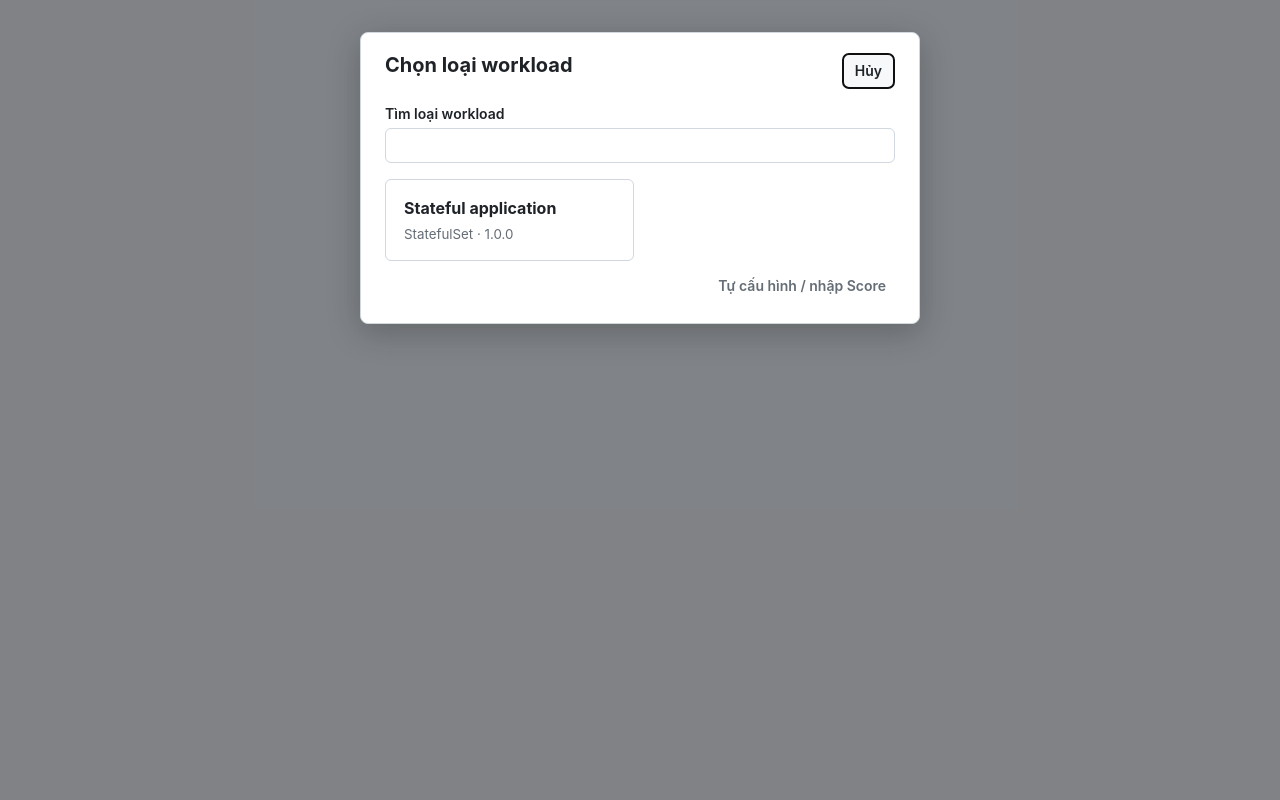
opens a scoped catalog, selects its immutable template and supports filtering
The image size is (1280, 800).
Click the button "Stateful application StatefulSet · 1.0.0" at (510, 220), box left=385, top=179, right=634, bottom=261
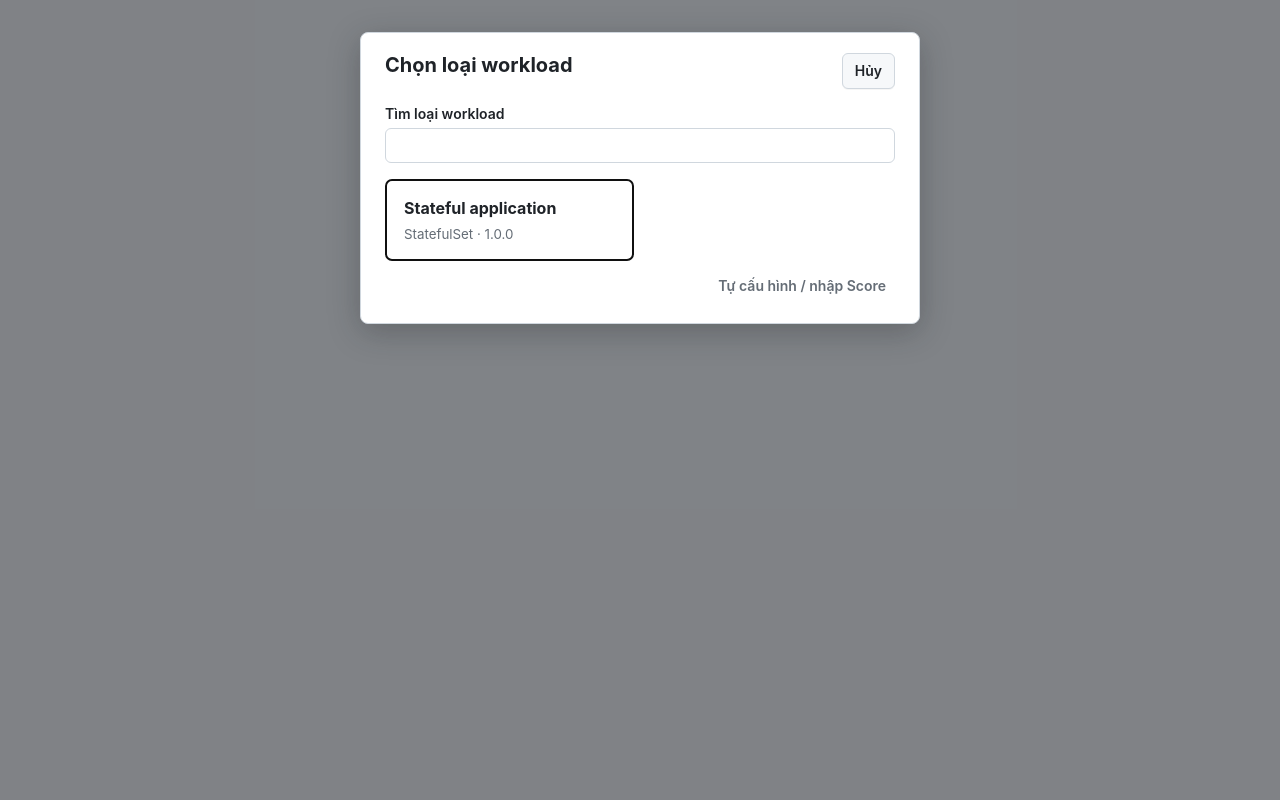
Type "not-found" into the field at (640, 146), box left=385, top=128, right=895, bottom=163
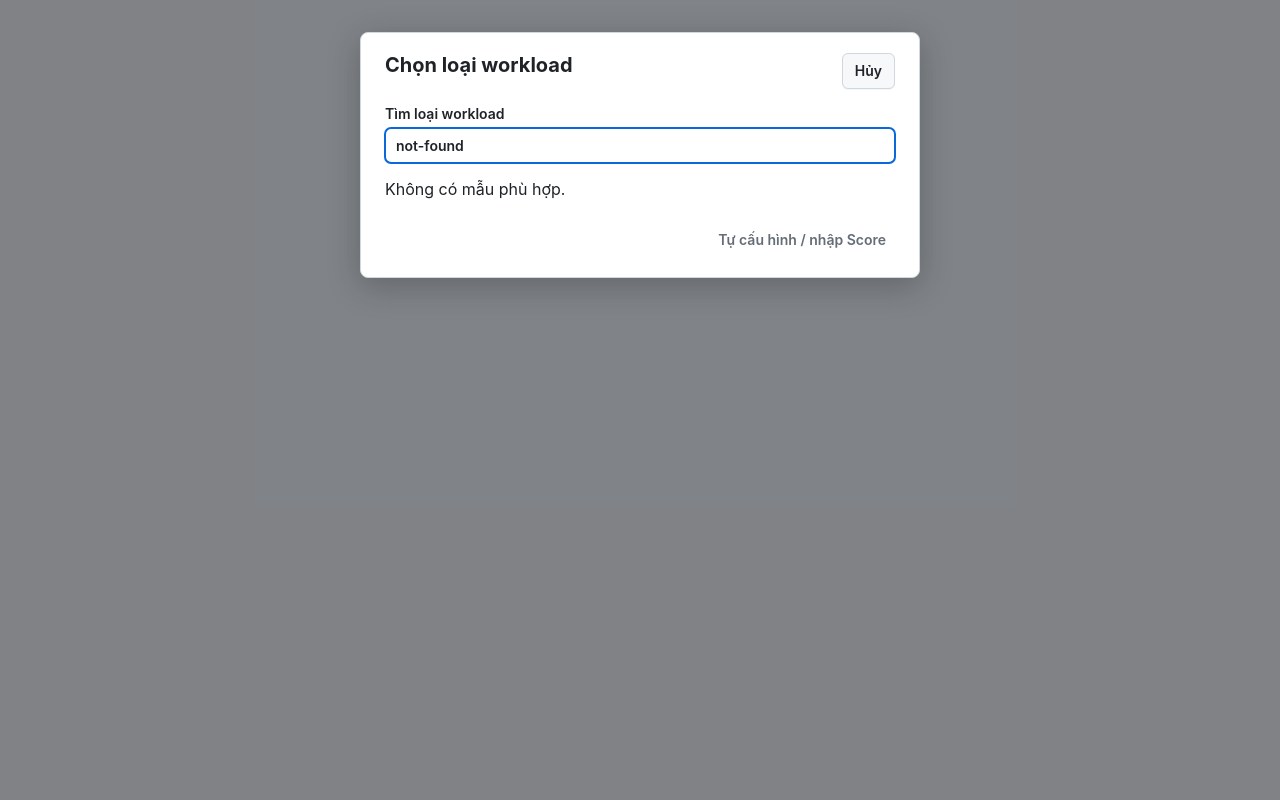
Now the button "Stateful application" is gone
